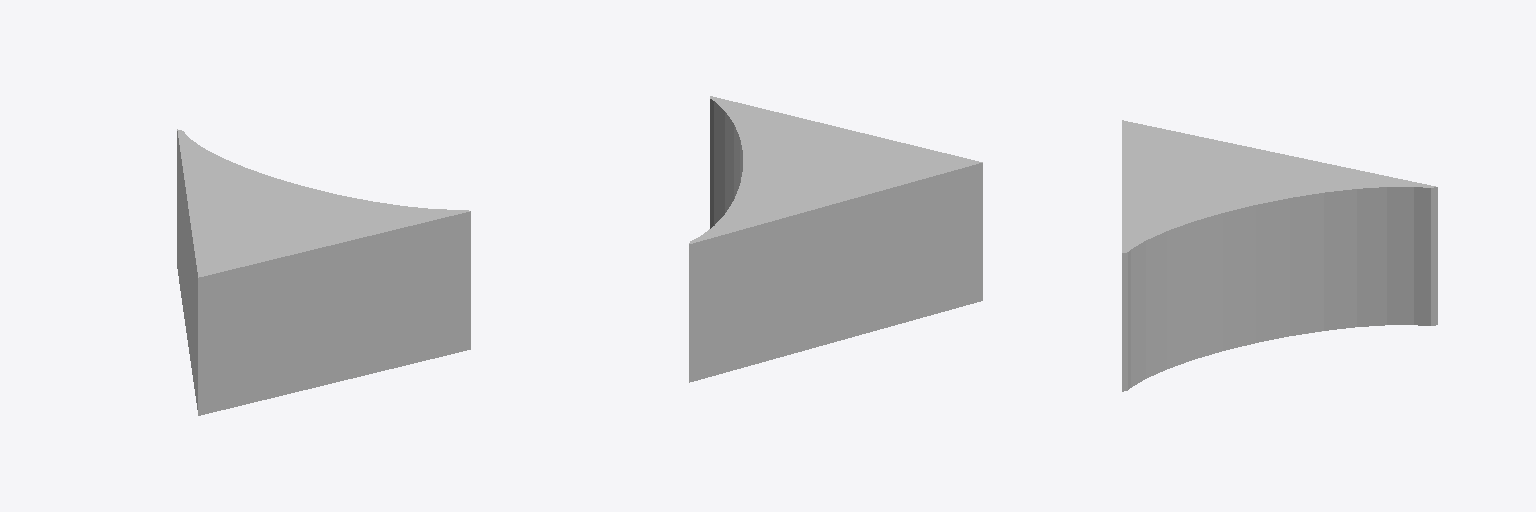
The model's file is plungerlane_guide_placeholder.obj.
The picture shows the model from 3 angles: view 1: azimuth 30°, elevation 25°; view 2: azimuth 150°, elevation 25°; view 3: azimuth 270°, elevation 25°; orthographic projection.
Parts seen in each view (by area): view 1: Plane; view 2: Plane; view 3: Plane.
Boxes of the visible parts, box(x1,y1,x2,y2) form: Plane: box(177, 129, 470, 415); Plane: box(689, 96, 982, 382); Plane: box(1122, 120, 1437, 391).
Size of the model in its own units: 2 by 0.9691 by 2.